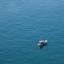fishing boat: (38, 36, 48, 47)
